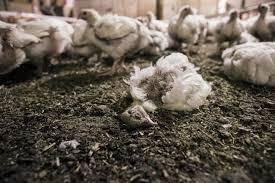AbNormal: (119, 47, 215, 131)
